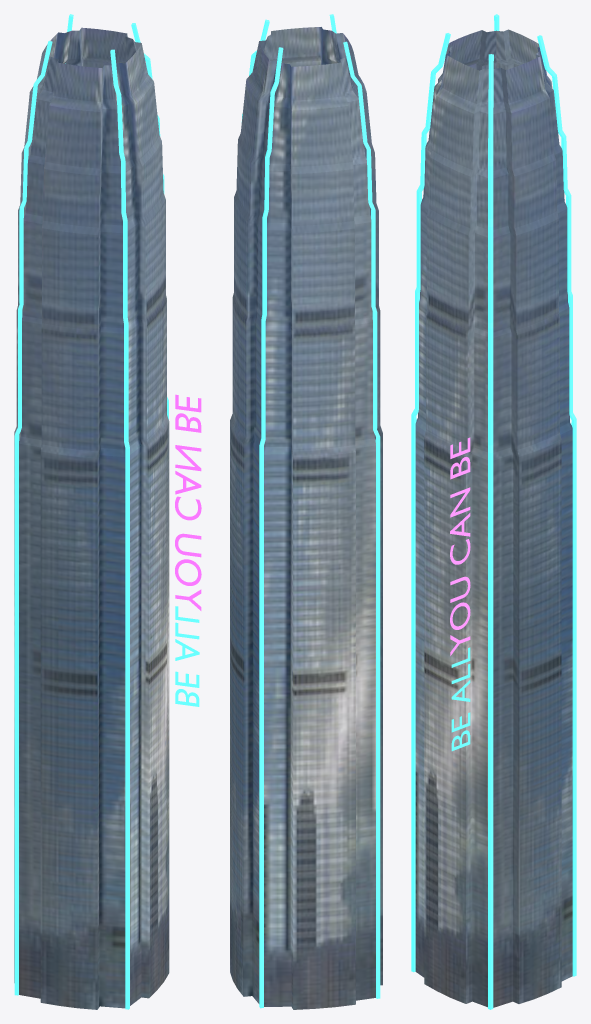
The model's file is bldg_ifc.glb.
3 renders of one model, left to right at view 1: azimuth 30°, elevation 25°; view 2: azimuth 150°, elevation 25°; view 3: azimuth 270°, elevation 25°, orthographic.
Parts seen in each view (by area): view 1: bldg_ifc, bldg_ifc.001, Text.023, Text.022; view 2: bldg_ifc, bldg_ifc.001; view 3: bldg_ifc, bldg_ifc.001, Text.023, Text.022.
Part boxes in pixels (x1,y1,x2,y2): bldg_ifc: (14,27,169,1009); bldg_ifc.001: (14,14,168,1009); Text.023: (175,394,201,610); Text.022: (175,606,199,706); bldg_ifc: (230,27,382,1009); bldg_ifc.001: (241,14,380,1008); bldg_ifc: (415,29,572,1007); bldg_ifc.001: (411,14,576,1009); Text.023: (450,437,470,655); Text.022: (451,647,470,751).
Bounding box in the file's own units: 78.16 × 434 × 69.23.
3 materials, 1 textured.
